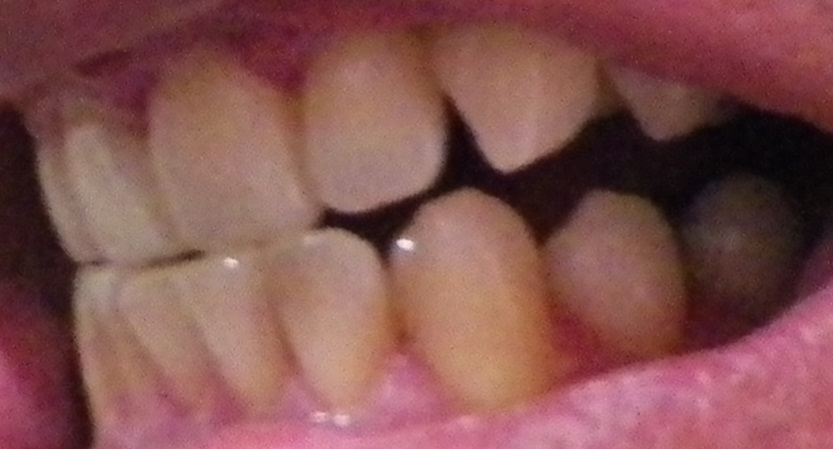boca: (26, 25, 790, 401)
